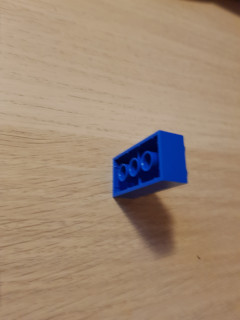2x4 blue: (100, 126, 193, 201)
